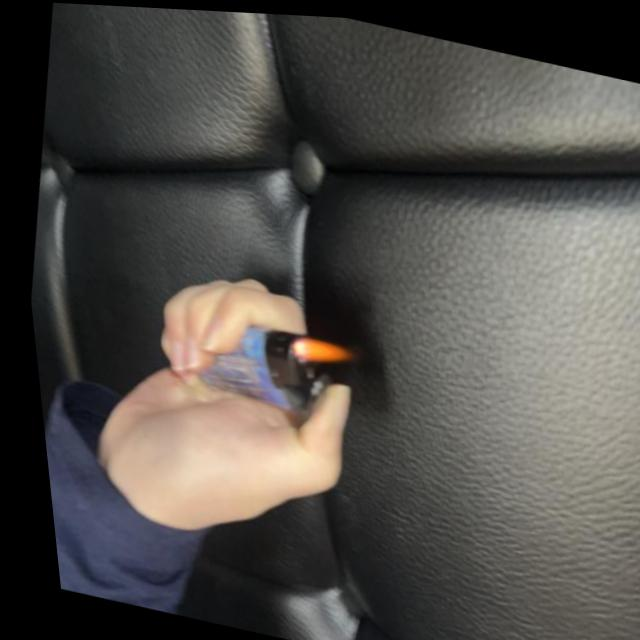Fire: (280, 329, 349, 372)
